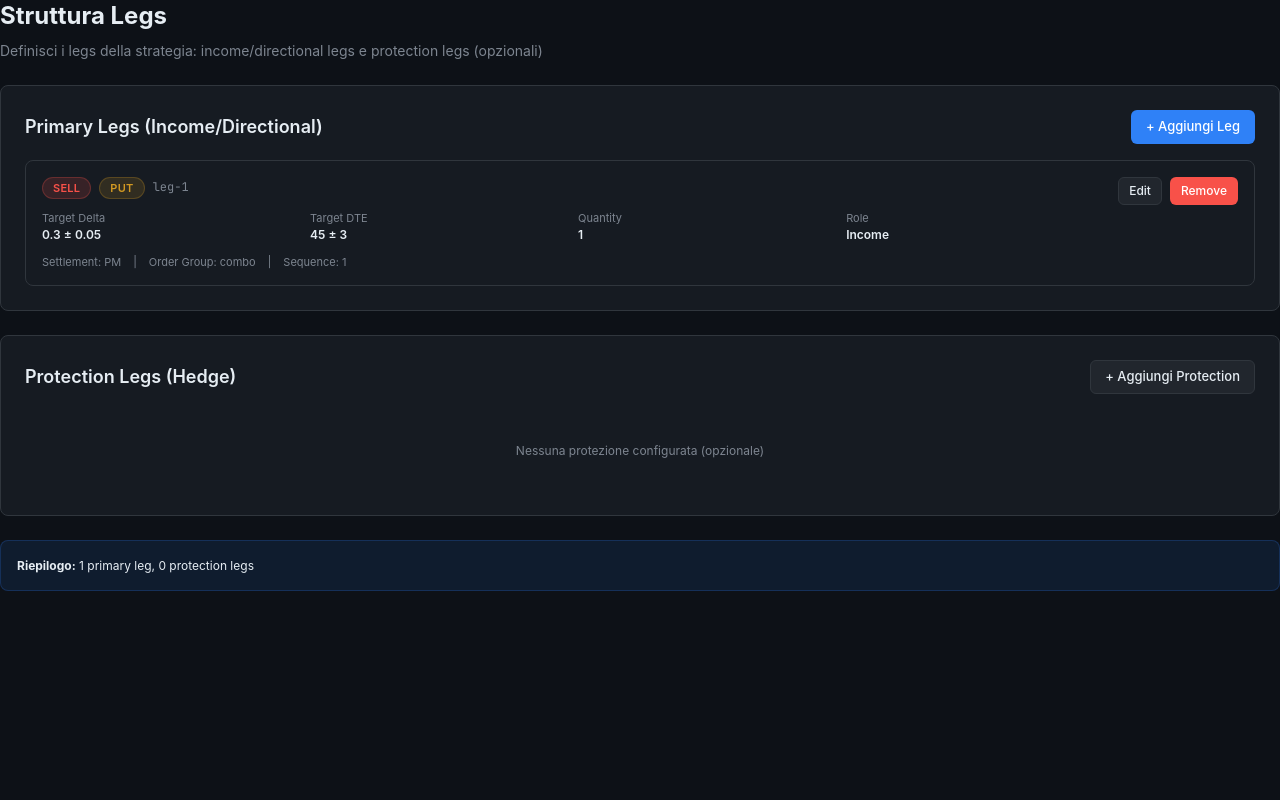
Test case: LegsStep › TEST-03-04: should show LegEditor when clicking "Edit" on LegCard
This screenshot has width=1280, height=800.
# Find and click Edit button
Step 1. Click the button "Edit" → (1140, 190), box [1118,176,1162,204]
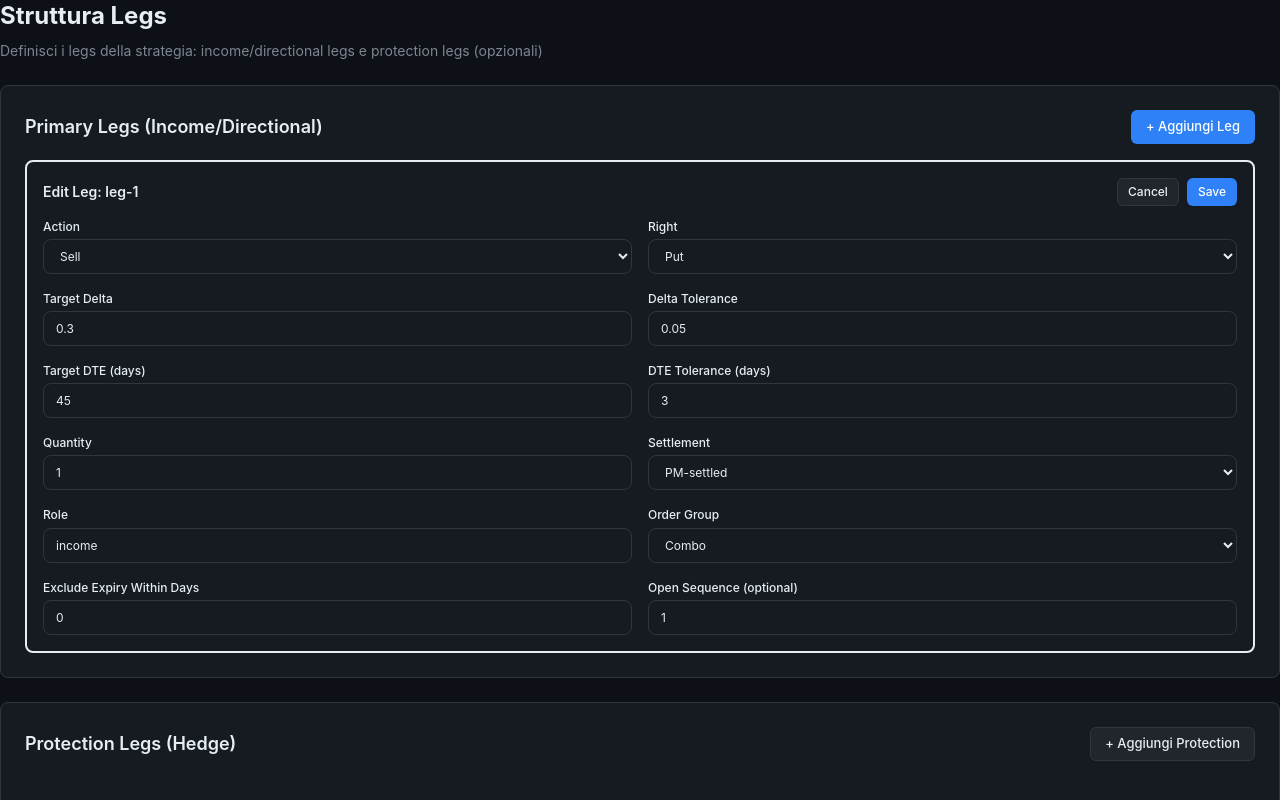
Check: the button "Save" is shown, box [1187,178,1237,206]
Check: the button "Cancel" is shown, box [1117,178,1179,206]
